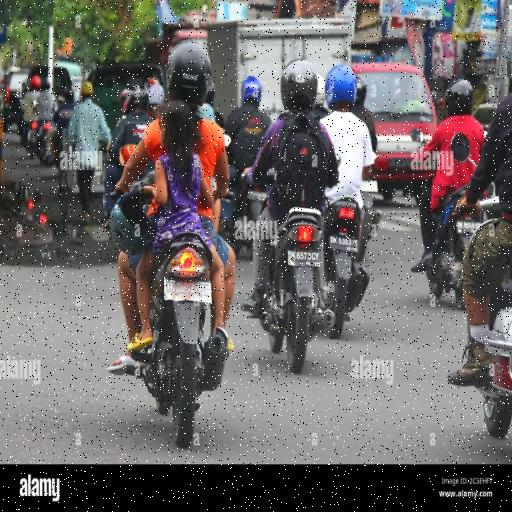Helmet: (110, 191, 155, 254), (167, 40, 211, 104), (281, 60, 317, 109), (326, 65, 356, 107), (446, 79, 472, 115), (126, 87, 148, 113), (242, 76, 262, 102), (148, 83, 164, 105), (315, 74, 325, 105), (356, 76, 366, 105), (205, 77, 215, 105), (29, 76, 41, 90), (81, 81, 93, 95), (145, 77, 159, 89), (506, 53, 511, 79), (40, 78, 50, 90)
Motor: (132, 232, 228, 447), (260, 208, 334, 373), (427, 186, 479, 309), (324, 198, 369, 338), (477, 280, 511, 437), (220, 175, 267, 259), (355, 180, 381, 262)
